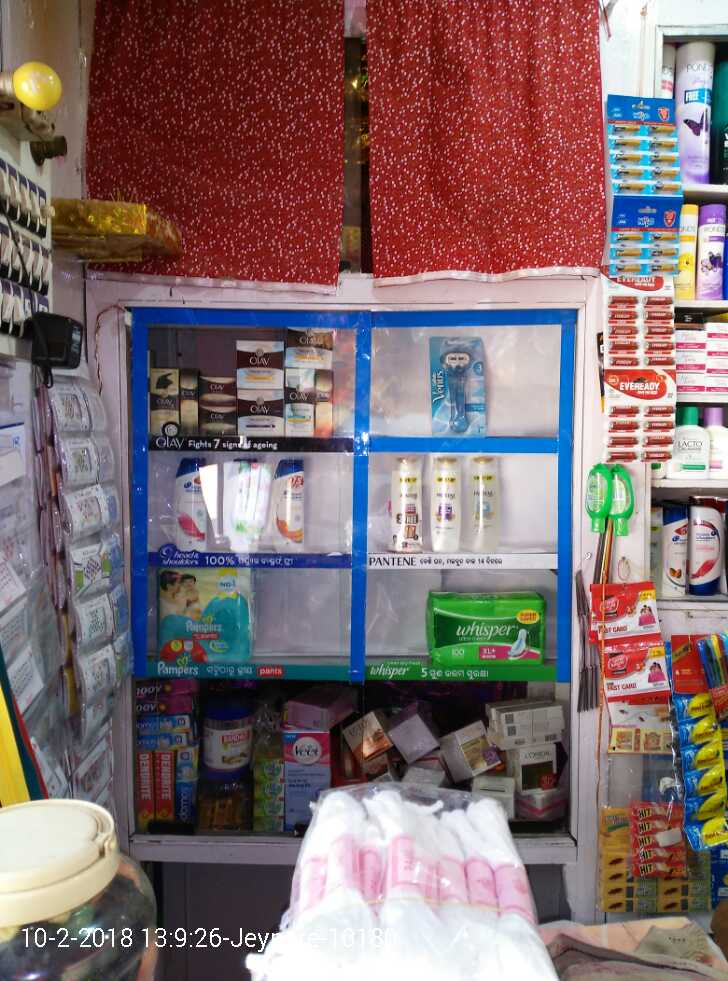venus: (432, 335, 483, 435)
